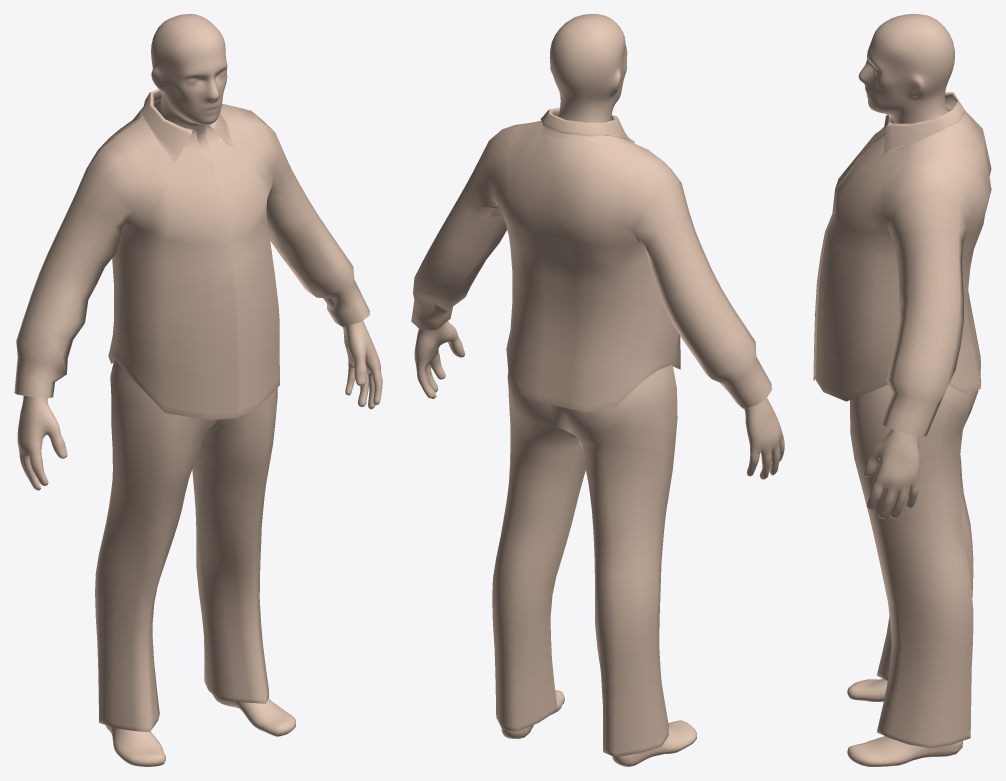
Rendered from fella.fbx.
The picture shows the model from 3 angles, left to right: view 1: azimuth 30°, elevation 25°; view 2: azimuth 150°, elevation 25°; view 3: azimuth 270°, elevation 25°; orthographic projection.
Parts seen in each view (by area): view 1: shirt, pants, humanBody; view 2: shirt, pants, humanBody; view 3: shirt, pants, humanBody.
Boxes of the visible parts, left/top/right/bottom form: shirt: left=14, top=89, right=369, bottom=419; pants: left=95, top=360, right=277, bottom=731; humanBody: left=17, top=14, right=382, bottom=766; shirt: left=411, top=107, right=771, bottom=412; pants: left=492, top=365, right=677, bottom=757; humanBody: left=414, top=14, right=784, bottom=766; shirt: left=813, top=92, right=991, bottom=436; pants: left=850, top=385, right=978, bottom=748; humanBody: left=847, top=14, right=962, bottom=766.
Size of the model in its own units: 0.9996 by 1.91 by 0.4338.
